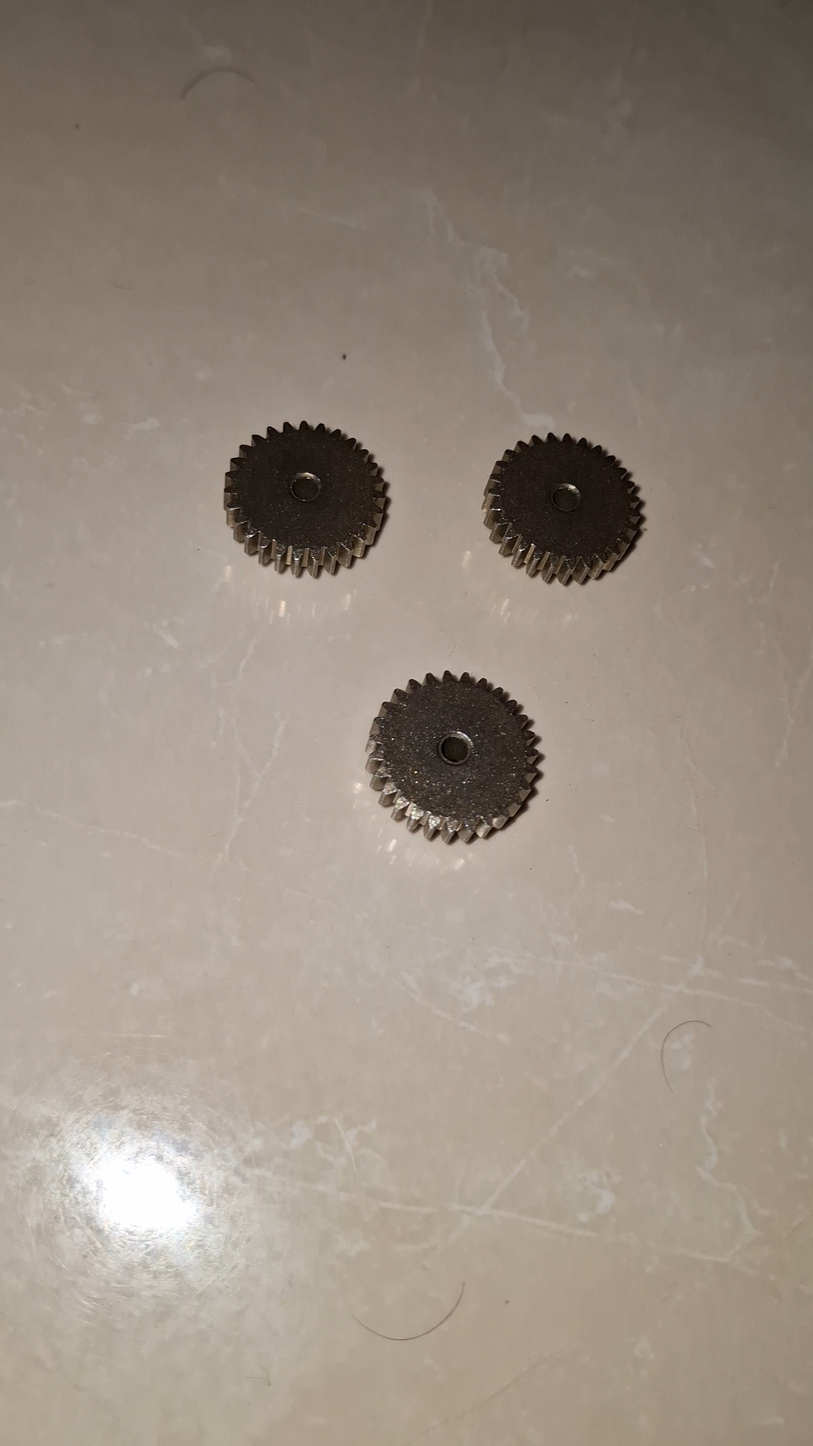spur gear: (367, 671, 539, 842), (224, 422, 384, 576), (484, 433, 641, 582)
